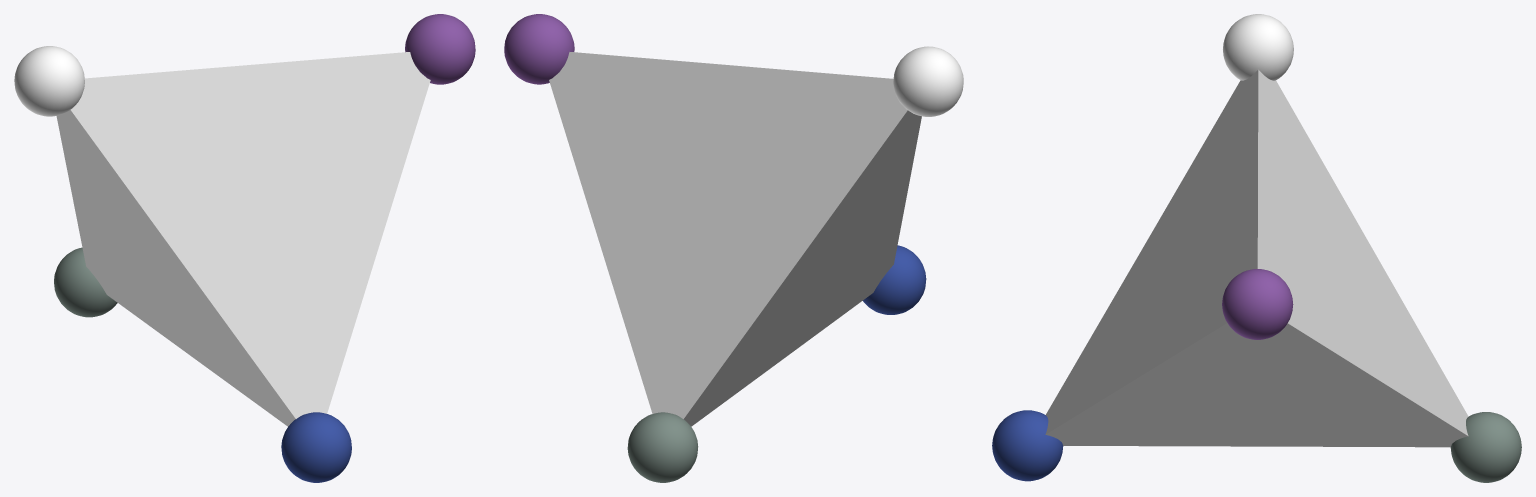
Rendered from AminoAcid_TetraAndBallStick.fbx.
The picture shows the model from 3 angles, left to right: view 1: azimuth 30°, elevation 25°; view 2: azimuth 150°, elevation 25°; view 3: azimuth 270°, elevation 25°; orthographic projection.
Visible parts, largest first — view 1: AminoAcid_Tetrahedron, AminoAcid_BallStick; view 2: AminoAcid_Tetrahedron, AminoAcid_BallStick; view 3: AminoAcid_Tetrahedron, AminoAcid_BallStick.
Part boxes in pixels (x1=…): AminoAcid_Tetrahedron: x1=56, y1=52, x2=430, y2=426; AminoAcid_BallStick: x1=14, y1=14, x2=475, y2=482; AminoAcid_Tetrahedron: x1=549, y1=52, x2=921, y2=426; AminoAcid_BallStick: x1=504, y1=14, x2=963, y2=482; AminoAcid_Tetrahedron: x1=1045, y1=69, x2=1468, y2=447; AminoAcid_BallStick: x1=992, y1=14, x2=1521, y2=482.
Size of the model in its own units: 77.23 by 62.94 by 78.02.
